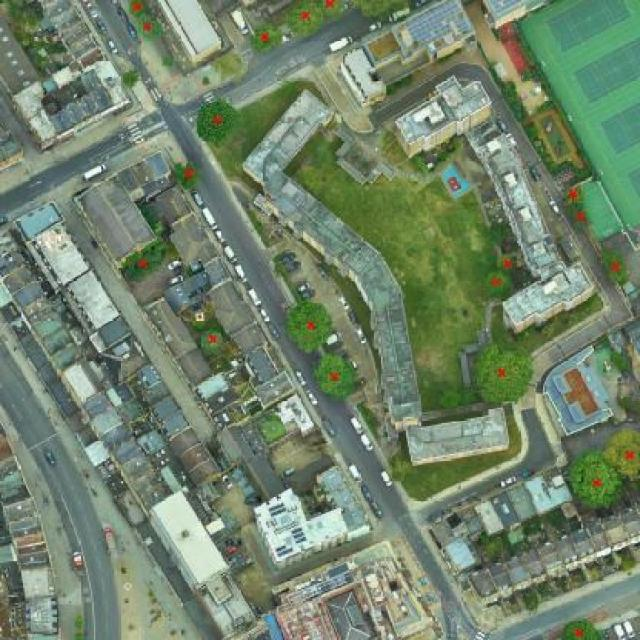tree: (466, 334, 542, 409), (562, 448, 623, 517), (186, 88, 248, 152), (280, 297, 338, 358), (112, 240, 174, 288), (308, 346, 360, 403), (601, 421, 640, 490), (238, 15, 290, 64), (280, 0, 326, 48), (597, 242, 634, 290), (164, 157, 208, 197), (475, 268, 520, 303), (355, 0, 417, 25), (131, 14, 178, 46), (433, 379, 470, 419), (554, 614, 609, 640), (194, 325, 231, 360), (307, 0, 351, 29), (562, 202, 600, 232), (490, 248, 525, 280), (556, 174, 590, 206), (120, 0, 158, 23)
